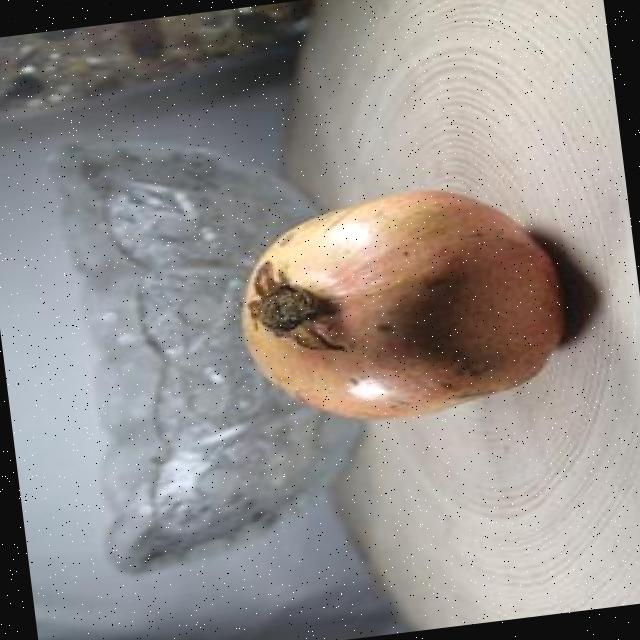overripe: (223, 168, 582, 442)
